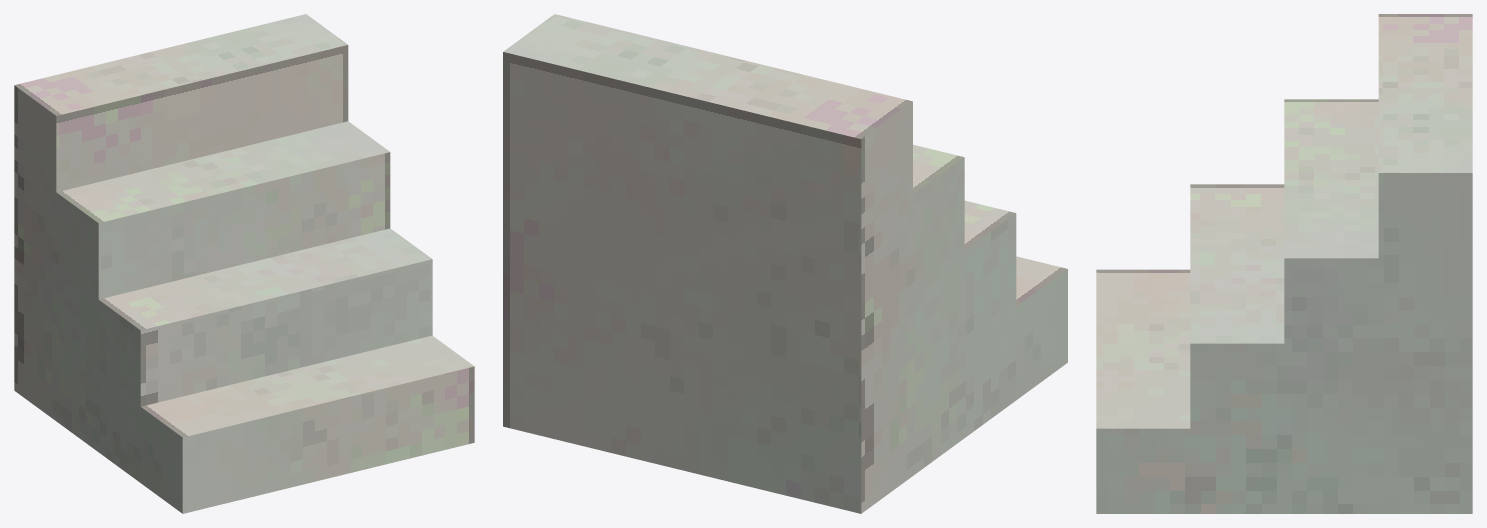
File: Stairs.glb
3 renders of one model, left to right at view 1: azimuth 30°, elevation 25°; view 2: azimuth 150°, elevation 25°; view 3: azimuth 270°, elevation 25°, orthographic. The views are drawn at different scales.
Parts seen in each view (by area): view 1: Cube.047; view 2: Cube.047; view 3: Cube.047.
Part boxes in pixels (x1,y1,x2,y2): Cube.047: (14,14,474,513); Cube.047: (503,14,1067,513); Cube.047: (1096,14,1472,513).
Bounding box in the file's own units: 4 × 4 × 4.
Materials: 1 (1 with a texture image).
